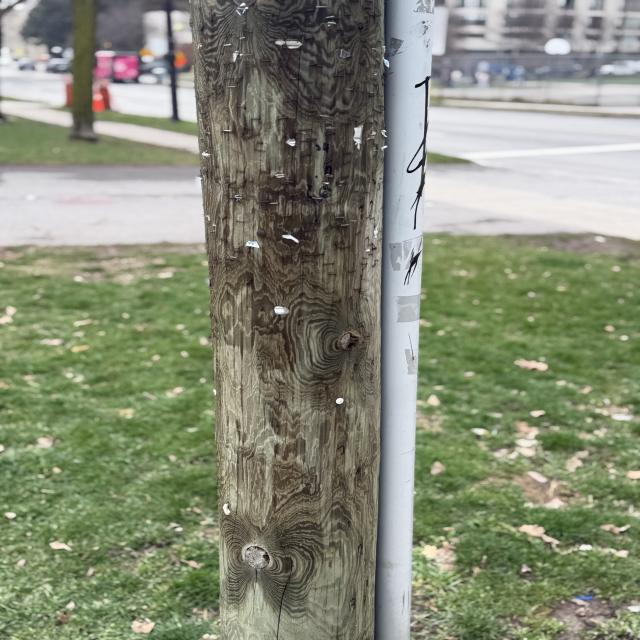Electrical Pole: (188, 4, 388, 638)
